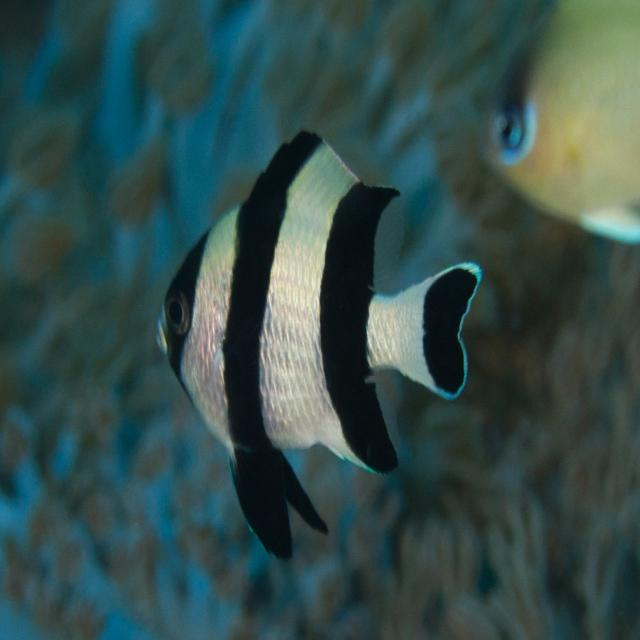ThreeStripedDamselfish: (158, 132, 483, 562)
